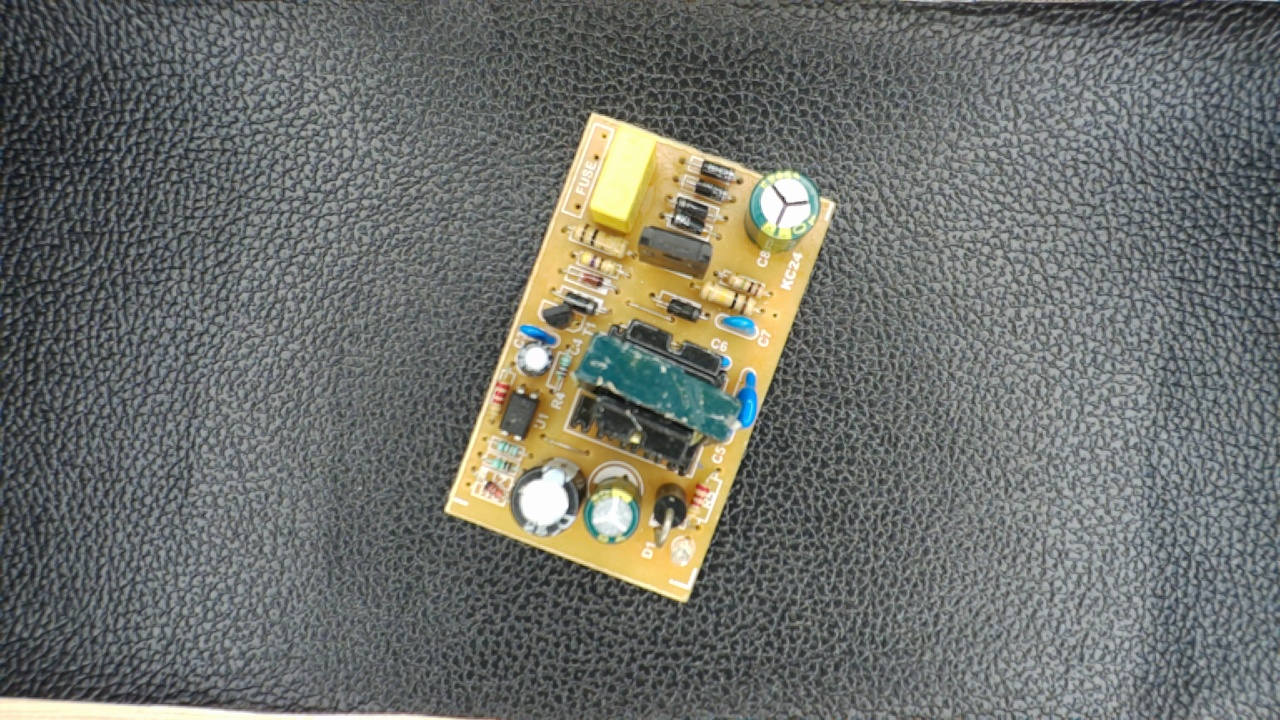hv_capacitor: (746, 170, 819, 249)
mov: (735, 363, 762, 434)
optocoupler: (497, 380, 539, 444)
